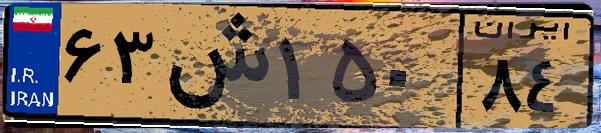0: (385, 28, 445, 110)
1: (270, 28, 330, 110)
3: (110, 28, 158, 98)
4: (525, 38, 570, 115)
5: (330, 28, 385, 110)
6: (57, 26, 110, 100)
8: (475, 38, 525, 113)
ش: (158, 12, 270, 120)
